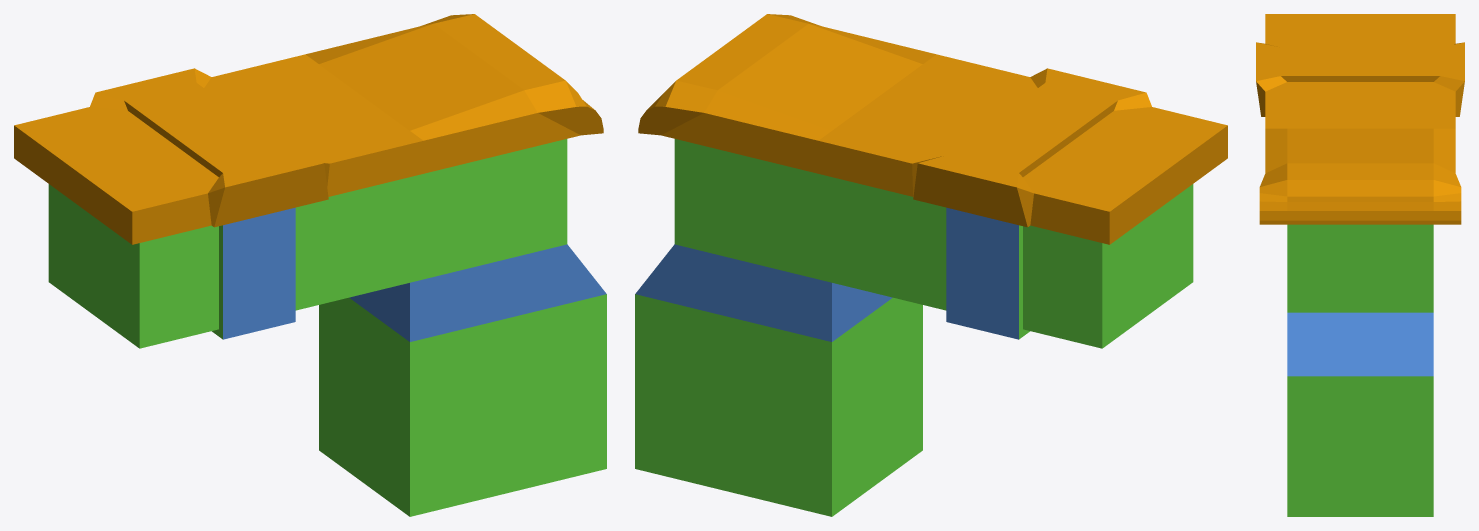
The model's file is Predio-em-L.glb.
3 renders of one model, left to right at view 1: azimuth 30°, elevation 25°; view 2: azimuth 150°, elevation 25°; view 3: azimuth 270°, elevation 25°, orthographic. The views are drawn at different scales.
Parts seen in each view (by area): view 1: Cube.010; view 2: Cube.010; view 3: Cube.010.
Boxes of the visible parts, box(x1,y1,x2,y2) form: Cube.010: box(14, 14, 606, 516); Cube.010: box(635, 14, 1227, 516); Cube.010: box(1256, 14, 1464, 516).
Size of the model in its own units: 9.14 by 7.14 by 4.21.
